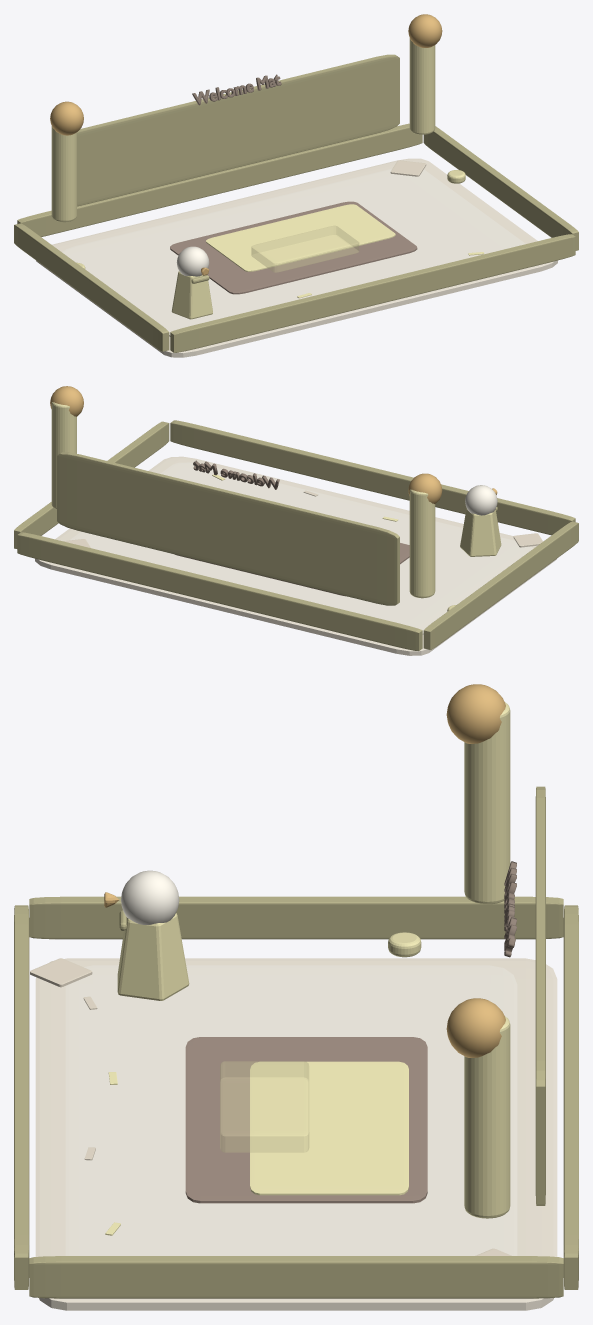
File: 03_triggers.glb
3 renders of one model, top to bottom at view 1: azimuth 30°, elevation 25°; view 2: azimuth 150°, elevation 25°; view 3: azimuth 270°, elevation 25°, orthographic. The views are drawn at different scales.
Visible parts, largest first — view 1: BackCard, FloorLayerInset, SouthRail-col, NorthRail-col, PaperFloor-col, StageMatHighlight, StageMat, WestRail-col, EastRail-col, WelcomeMatTrigger, PaperLantern.001, FpeRushPlayer (+5 smaller); view 2: BackCard, FloorLayerInset, NorthRail-col, SouthRail-col, PaperFloor-col, WestRail-col, PaperLantern, FpeRushPlayer, EastRail-col, PaperLantern.001, TitleLabel, LanternGlow.001 (+2 smaller); view 3: FloorLayerInset, PaperFloor-col, EastRail-col, StageMatHighlight, WestRail-col, StageMat, WelcomeMatTrigger, PaperLantern.001, PaperLantern, FpeRushPlayer, NorthRail-col, SouthRail-col (+5 smaller).
Part boxes in pixels (x1,y1,x2,y2): BackCard: (77, 54, 399, 206); FloorLayerInset: (62, 168, 525, 336); SouthRail-col: (170, 234, 575, 352); NorthRail-col: (17, 123, 422, 236); PaperFloor-col: (36, 158, 557, 357); StageMatHighlight: (206, 204, 395, 271); StageMat: (170, 201, 417, 294); WestRail-col: (14, 223, 169, 351); EastRail-col: (423, 126, 578, 250); WelcomeMatTrigger: (251, 226, 358, 272); PaperLantern.001: (409, 38, 435, 134); FpeRushPlayer: (171, 246, 212, 319); BackCard: (57, 452, 399, 605); FloorLayerInset: (70, 462, 533, 634); NorthRail-col: (17, 532, 422, 650); SouthRail-col: (170, 420, 575, 535); PaperFloor-col: (35, 456, 556, 655); WestRail-col: (423, 521, 578, 649); PaperLantern: (409, 489, 435, 598); FpeRushPlayer: (460, 485, 501, 556); EastRail-col: (14, 421, 169, 548); PaperLantern.001: (51, 402, 76, 509); TitleLabel: (193, 460, 279, 489); LanternGlow.001: (50, 386, 83, 416); FloorLayerInset: (65, 965, 517, 1255); PaperFloor-col: (35, 958, 557, 1310); EastRail-col: (29, 1256, 563, 1298); StageMatHighlight: (250, 1061, 408, 1195); WestRail-col: (29, 896, 563, 939); StageMat: (185, 1037, 427, 1203); WelcomeMatTrigger: (220, 1061, 308, 1152); PaperLantern.001: (464, 1016, 510, 1218); PaperLantern: (464, 702, 510, 904); FpeRushPlayer: (104, 870, 189, 1000); NorthRail-col: (563, 905, 578, 1289); SouthRail-col: (14, 905, 29, 1289).
Bounding box in the file's own units: 6.8 × 2.56 × 4.44.
